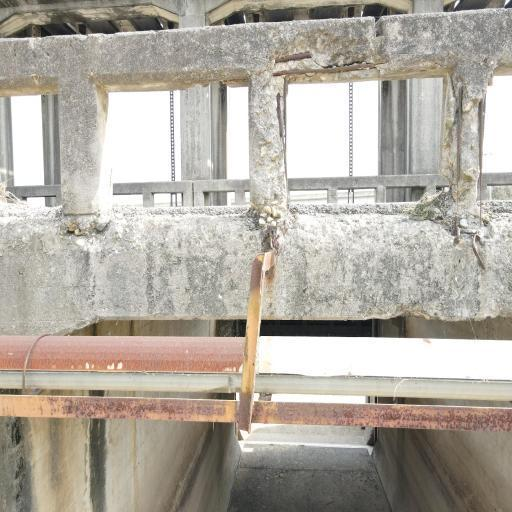exposed_rebar: (274, 64, 375, 76), (478, 96, 486, 228), (277, 92, 287, 180), (443, 0, 512, 12), (456, 85, 462, 212), (472, 235, 485, 270), (276, 52, 311, 62), (283, 76, 288, 142), (454, 228, 460, 244)
